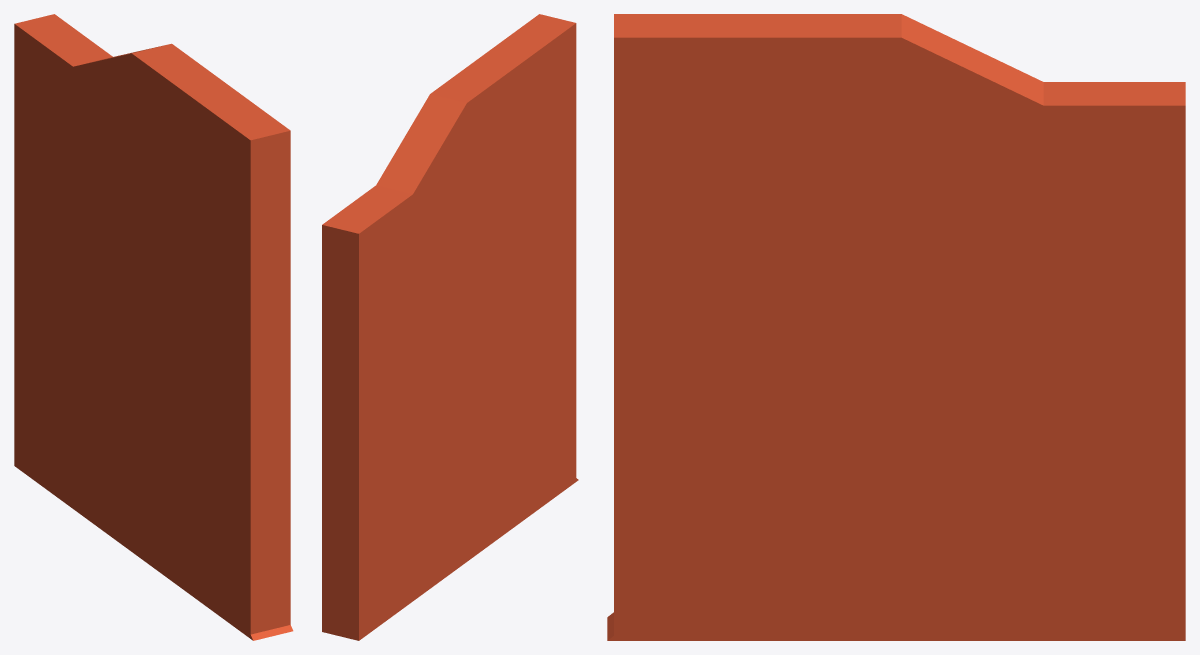
File: mask1.fbx
3 renders of one model, left to right at view 1: azimuth 30°, elevation 25°; view 2: azimuth 150°, elevation 25°; view 3: azimuth 270°, elevation 25°, orthographic. The views are drawn at different scales.
Parts seen in each view (by area): view 1: Cube; view 2: Cube; view 3: Cube.
Boxes of the visible parts, x1,y1,x2,y2 form: Cube: (14, 14, 293, 640); Cube: (322, 14, 578, 640); Cube: (607, 14, 1185, 640).
Bounding box in the file's own units: 9.87 × 117 × 102.
